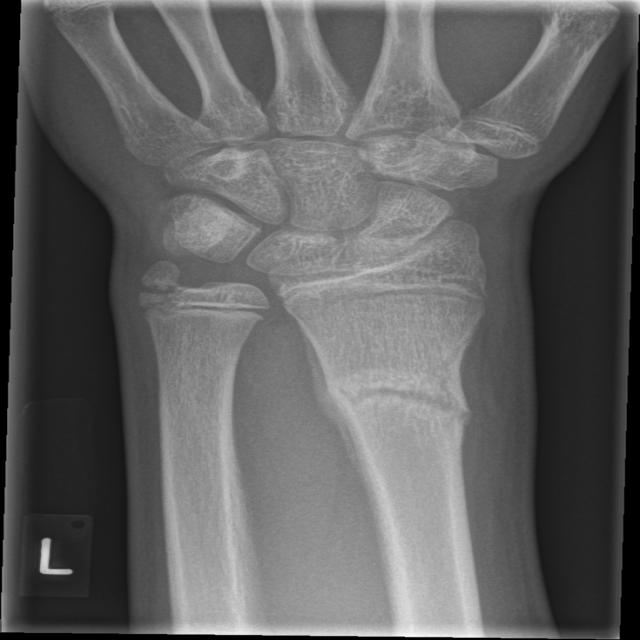radius fracture: (303, 341, 502, 490)
ulna fracture: (112, 262, 267, 449)
